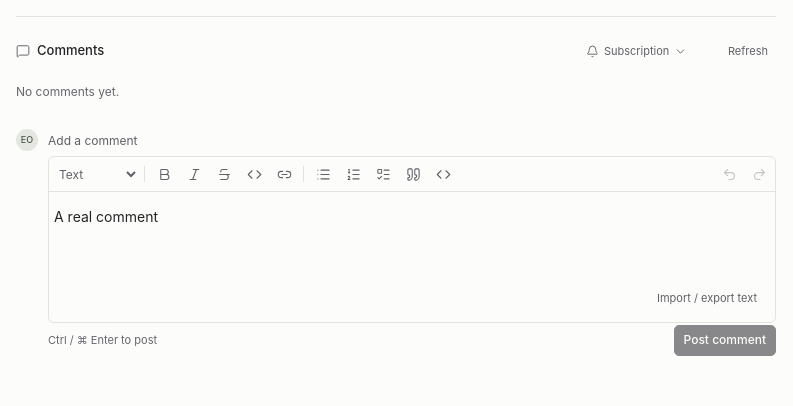
Scenario: clears the actual composer after a confirmed post without restoring the submitted text
This screenshot has width=793, height=406.
Clear the field labelled "A real comment" at coordinates (106, 216), box x1=54 y1=208 x2=158 y2=225
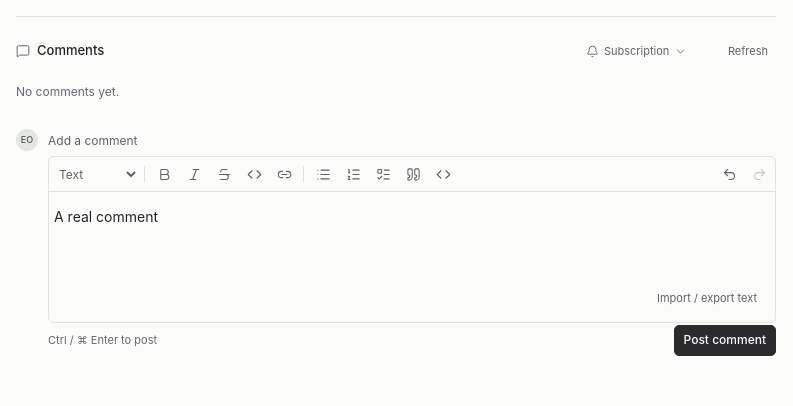
Check: the button "Post comment" is enabled
Click the button "Post comment" at coordinates (725, 340), box x1=674 y1=324 x2=776 y2=356
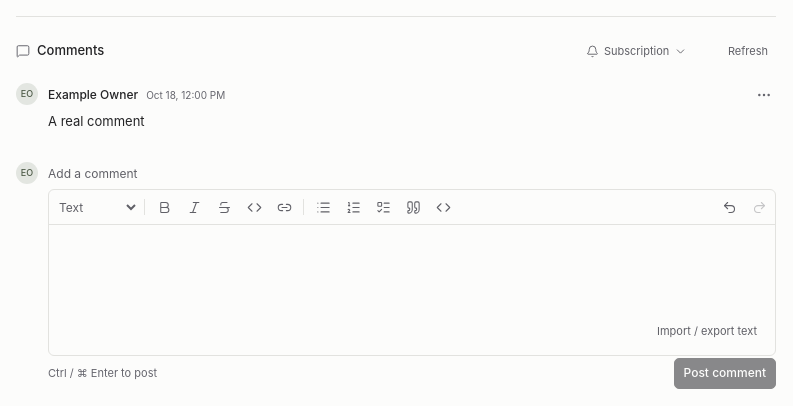
Check: the list with class "comment-list" shows "A real comment", box x1=48 y1=113 x2=145 y2=129
Check: the button "Post comment" is disabled, box x1=674 y1=358 x2=776 y2=389
